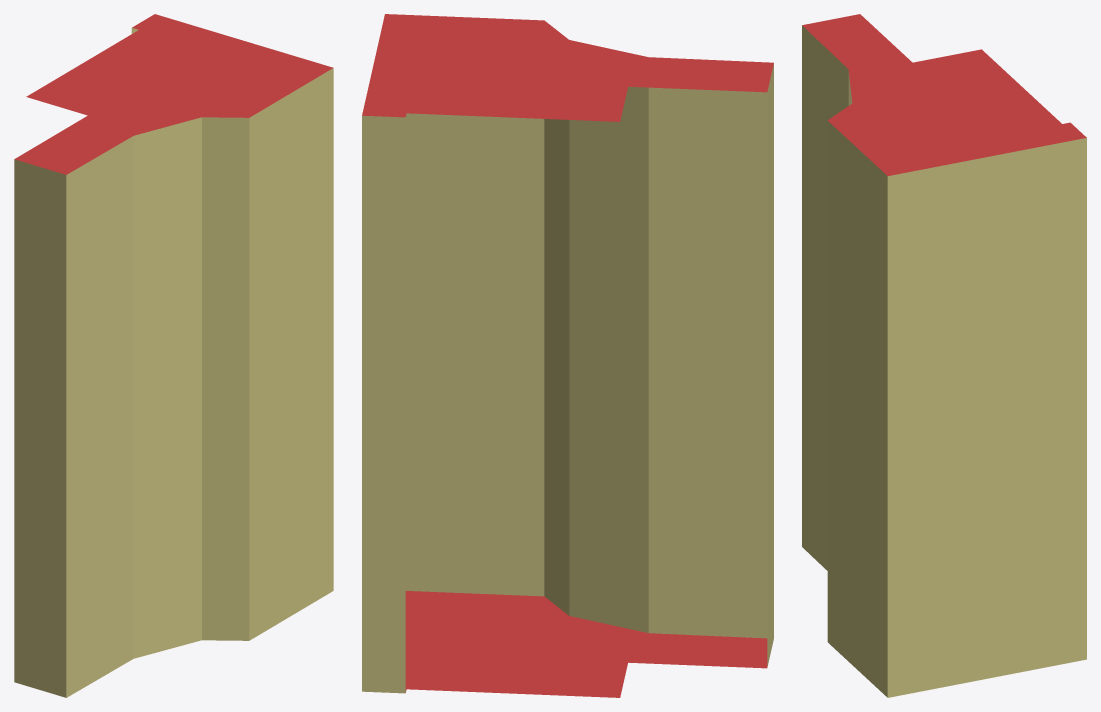
3 renders of one model, left to right at view 1: azimuth 30°, elevation 25°; view 2: azimuth 150°, elevation 25°; view 3: azimuth 270°, elevation 25°, orthographic. The views are drawn at different scales.
Parts seen in each view (by area): view 1: group_4, group_3; view 2: group_4, group_3, group_5; view 3: group_4, group_3.
Part boxes in pixels (x1,y1,x2,y2): group_4: (14, 28, 333, 697); group_3: (14, 14, 333, 174); group_4: (362, 63, 773, 693); group_3: (362, 14, 773, 121); group_5: (405, 591, 767, 697); group_4: (802, 25, 1086, 697); group_3: (802, 14, 1086, 175).
Bounding box in the file's own units: 8.37 × 6.22 × 12.56.
